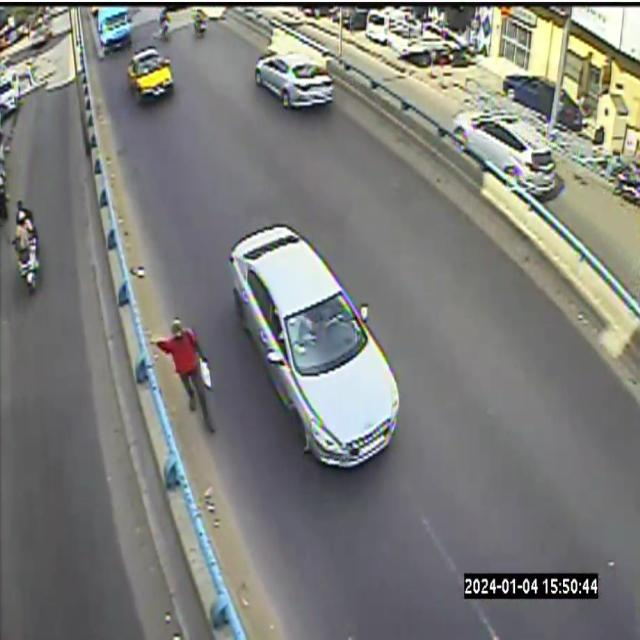car: (230, 226, 398, 466), (452, 109, 555, 196), (254, 46, 333, 107), (127, 47, 173, 102), (97, 5, 131, 52)
